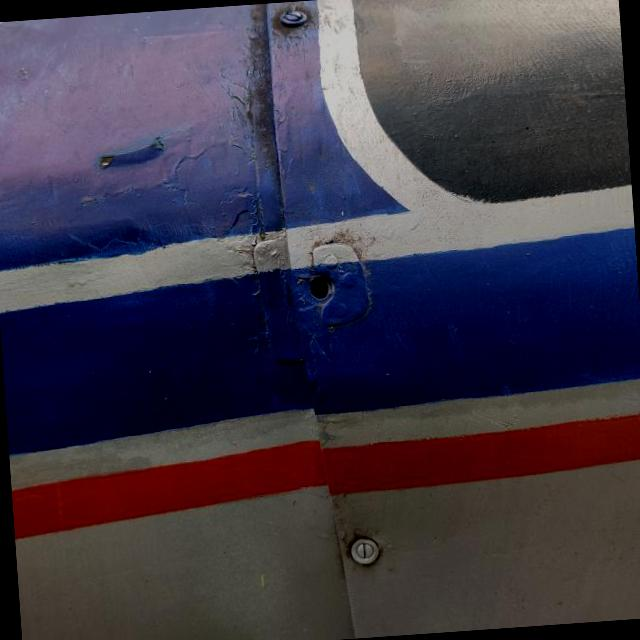Missing Fastener: (299, 270, 336, 304)
